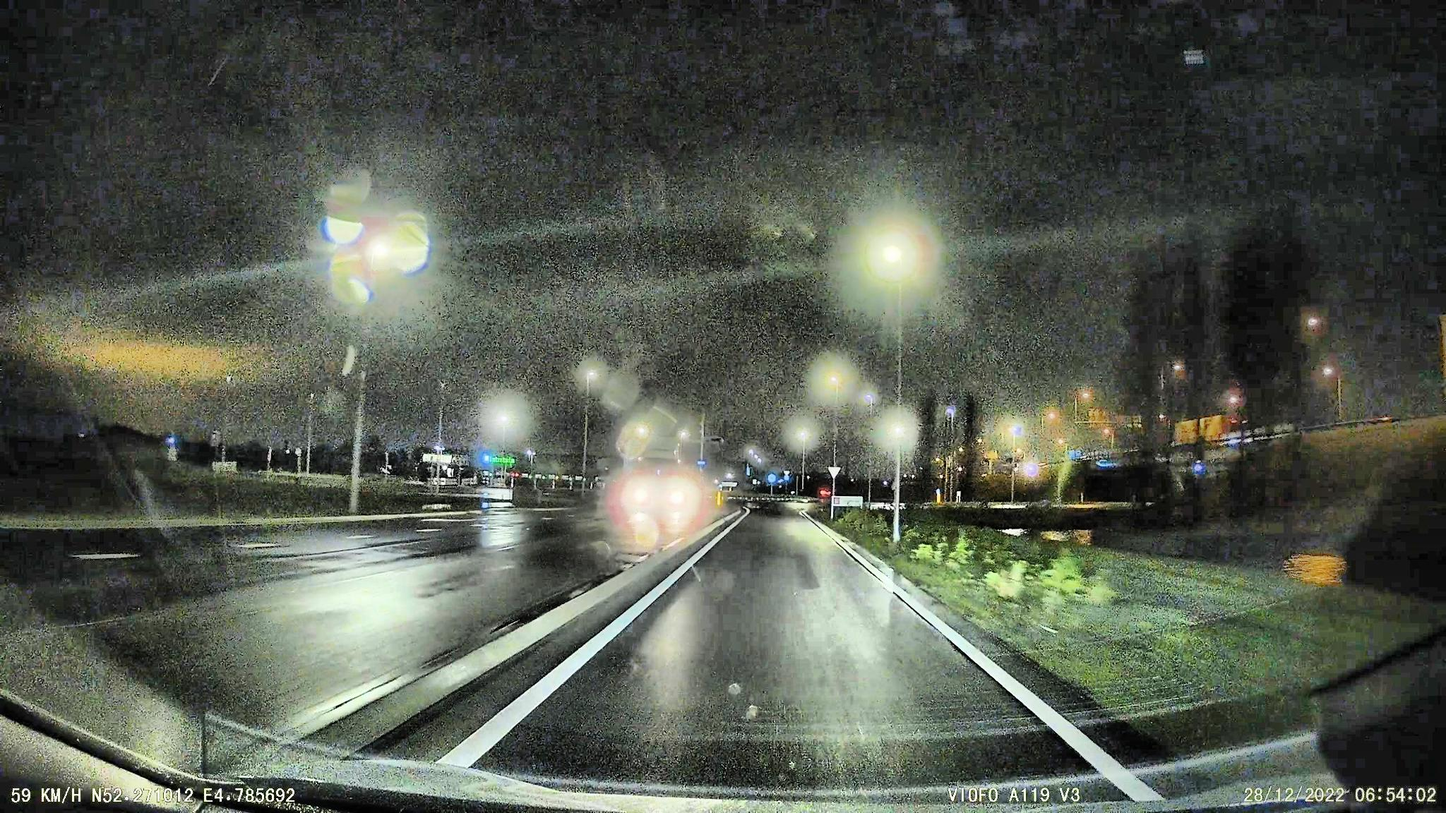Roads: (395, 514, 1095, 779)
